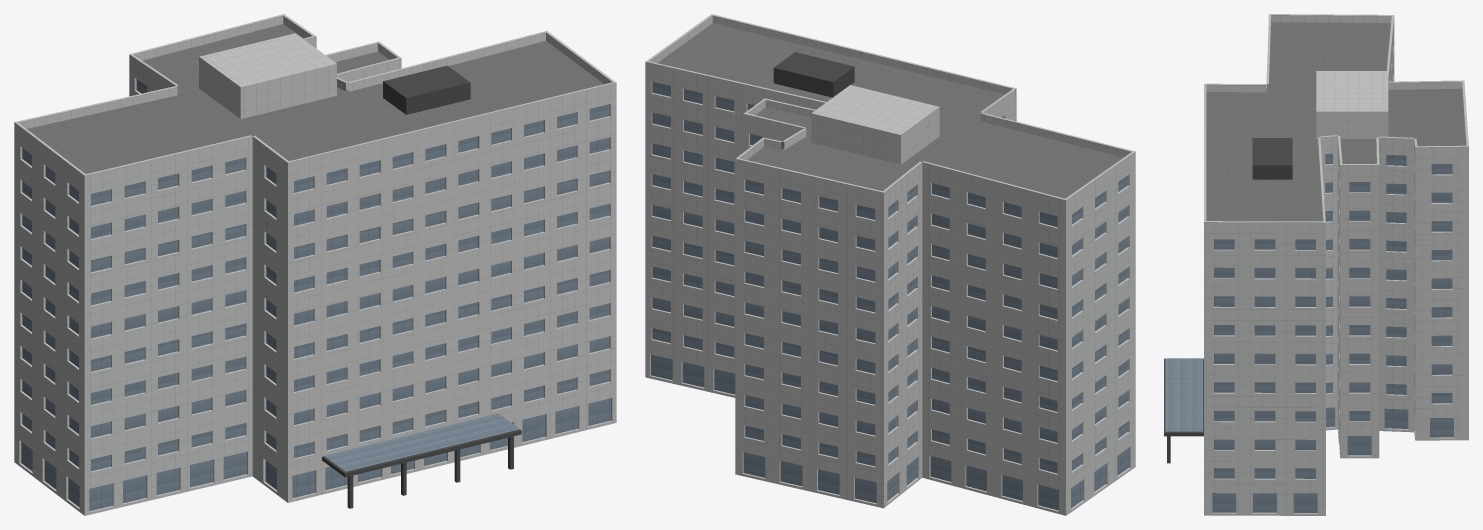
The picture shows the model from 3 angles, left to right: view 1: azimuth 30°, elevation 25°; view 2: azimuth 150°, elevation 25°; view 3: azimuth 270°, elevation 25°; orthographic projection. The views are drawn at different scales.
Visible parts, largest first — view 1: rehabilitation-hospital; view 2: rehabilitation-hospital; view 3: rehabilitation-hospital.
Part boxes in pixels (x1,y1,x2,y2): rehabilitation-hospital: [14, 14, 616, 515]; rehabilitation-hospital: [645, 14, 1135, 515]; rehabilitation-hospital: [1164, 14, 1468, 515].
Size of the model in its own units: 61.72 by 43.3 by 38.13.
4 materials, 3 textured.
